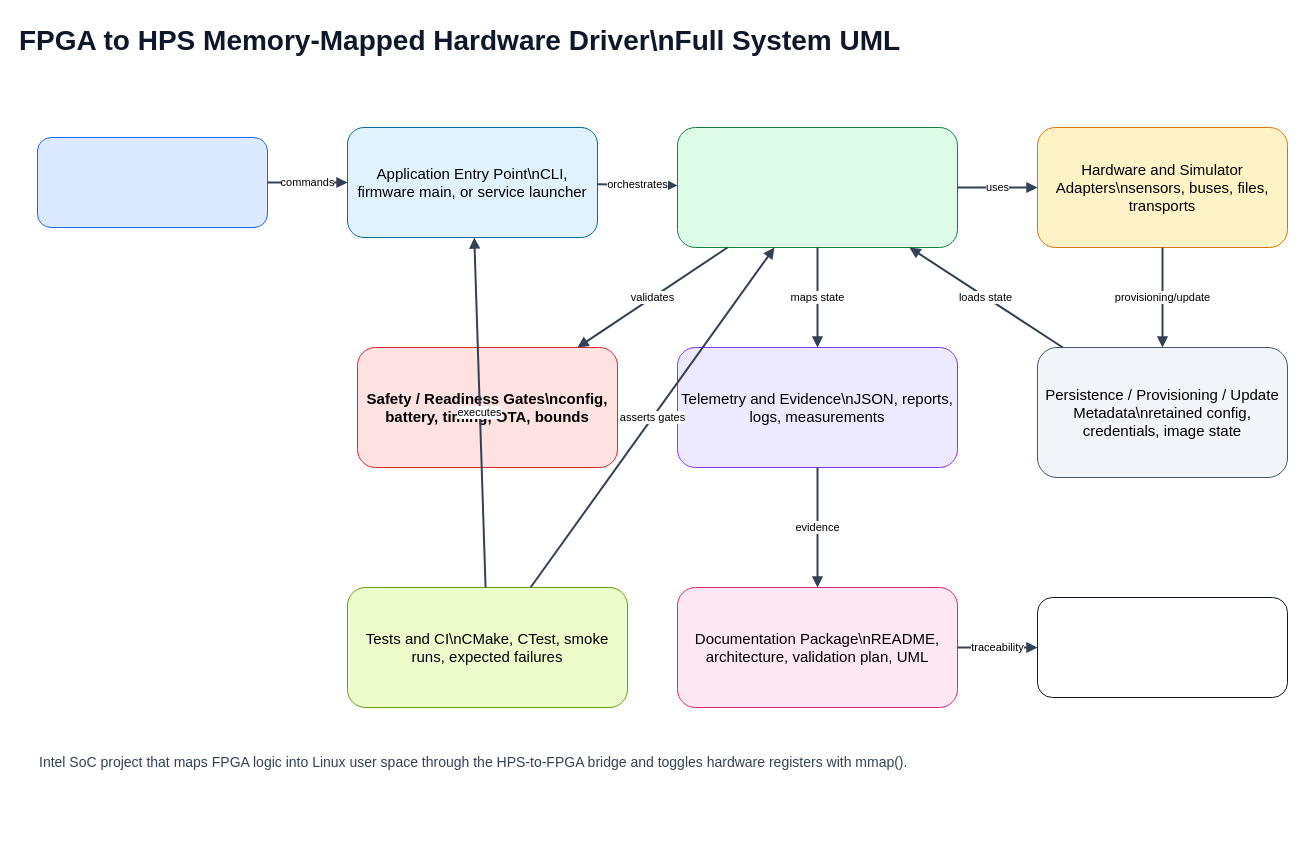
Some shapes in this 1305 by 844 pixel diagram are drawn without their labels. Here are the shapes that lost their labels. From the top down, the box of each, then its label:
(36, 136, 268, 228): Operator / Cloud / Test Harness
(676, 126, 958, 248): Domain / Control Core\nstate model, policy, orchestration
(1036, 596, 1288, 698): Target Stack\nC++17, C++ Design Patterns, SOLID, FPGA, HPS bridge, mmap
